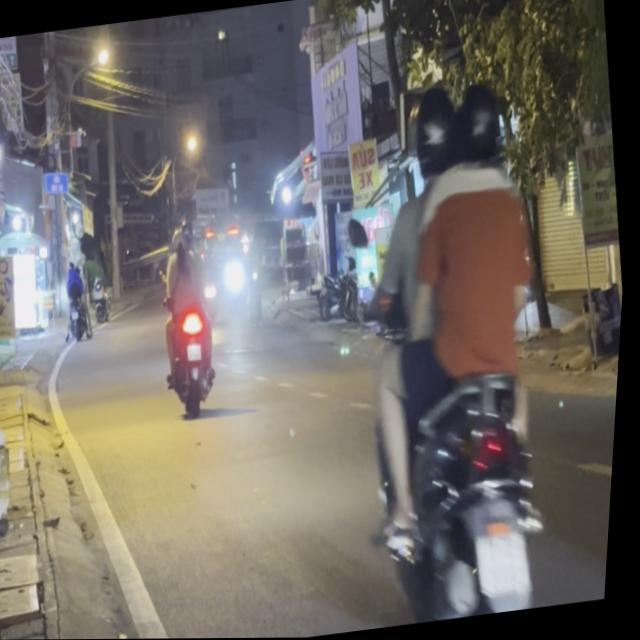helmet: (447, 77, 516, 179), (404, 79, 469, 184)
licenseplate: (320, 66, 593, 628)
nohelmet: (479, 529, 540, 603)
